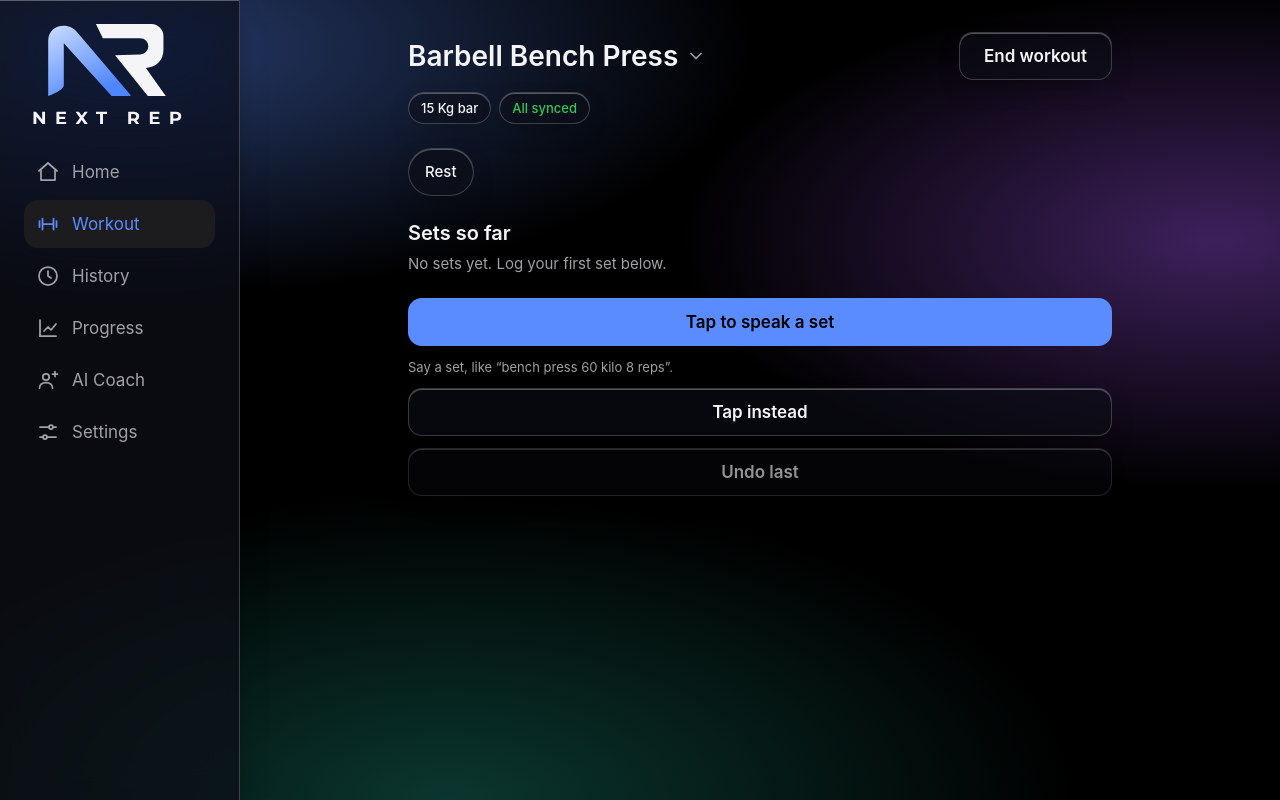
Test: a spoken set with a number missing › asks for the reps, keeping the exercise and weight, and does not ask Gemini
Click the button "Tap to speak a set": (760, 322) [408, 298, 1112, 346]
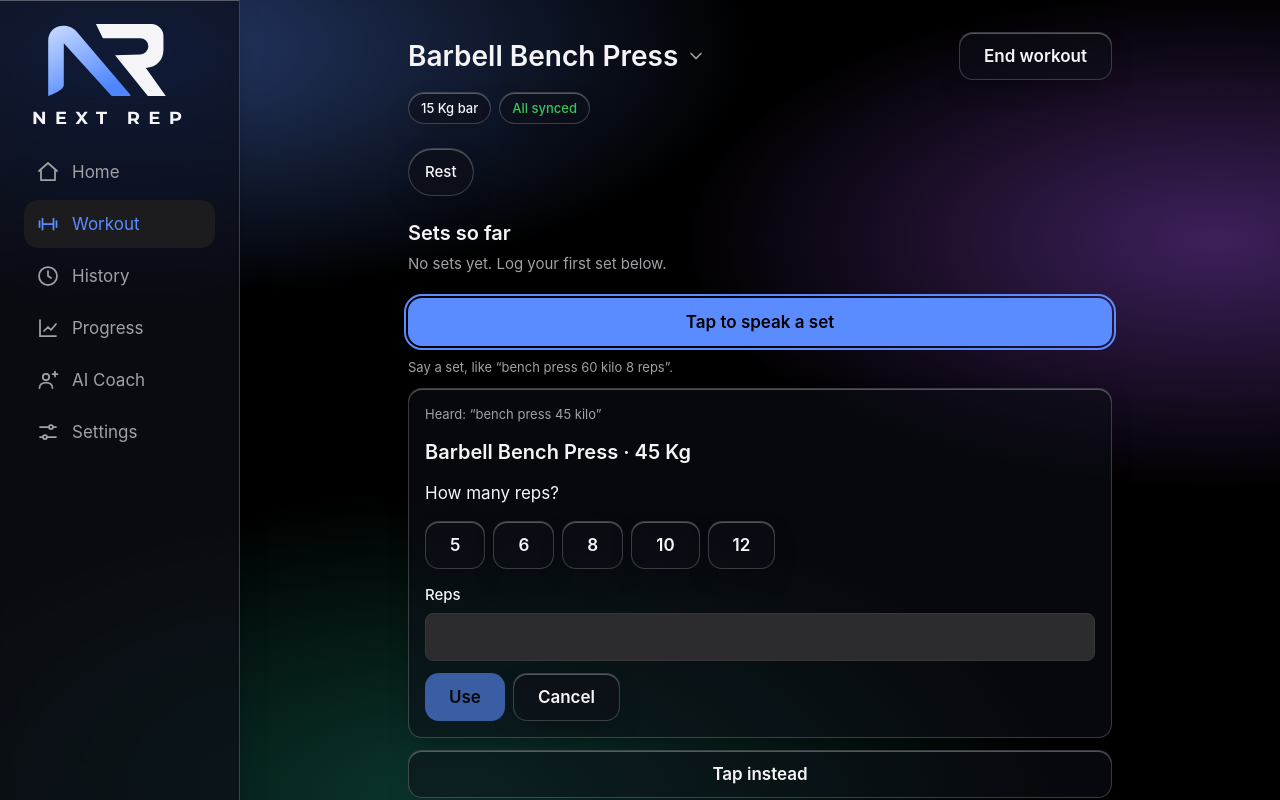
Check: the text "Heard: “bench press 45 kilo”" is shown, box [425, 406, 601, 422]
Check: the text "Barbell Bench Press · 45 Kg" is shown, box [425, 440, 691, 464]
Check: the text "How many reps?" is shown, box [425, 483, 559, 503]
